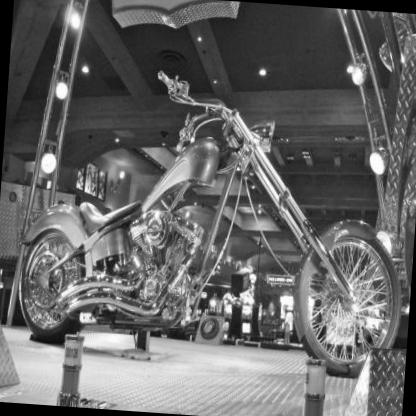moto: (17, 56, 416, 392)
